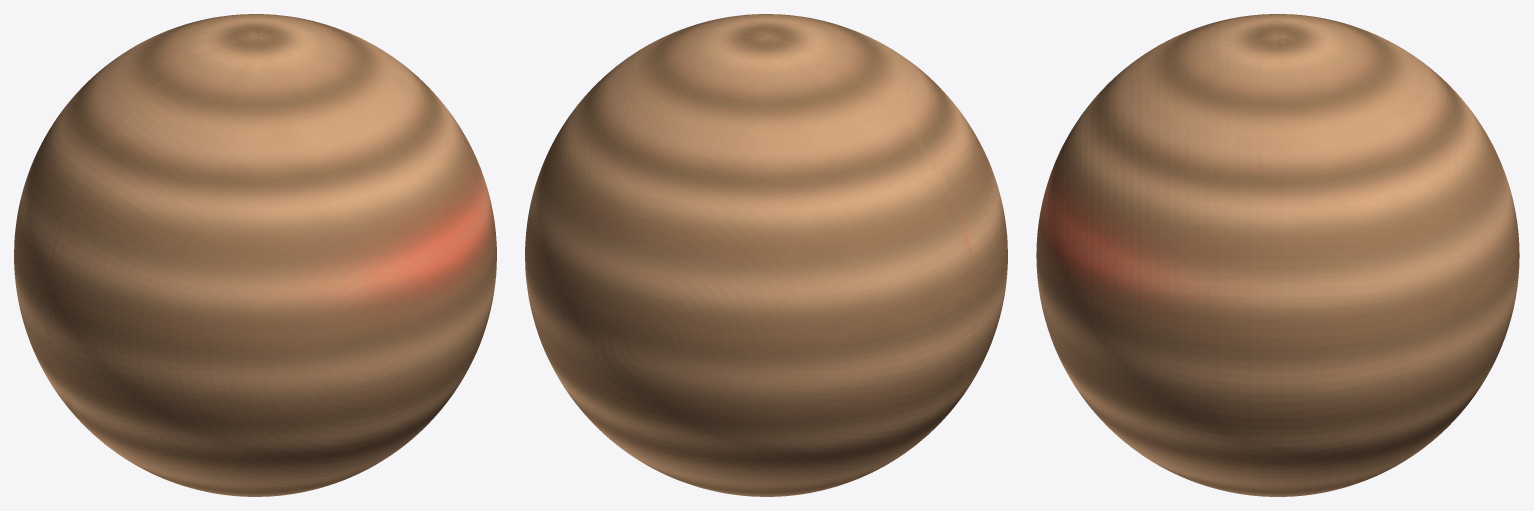
File: jupiter.glb
The picture shows the model from 3 angles, left to right: view 1: azimuth 30°, elevation 25°; view 2: azimuth 150°, elevation 25°; view 3: azimuth 270°, elevation 25°; orthographic projection.
Visible parts, largest first — view 1: world; view 2: world; view 3: world.
Boxes of the visible parts, x1,y1,x2,y2 form: world: [14, 14, 496, 496]; world: [525, 14, 1007, 496]; world: [1036, 14, 1519, 496].
Size of the model in its own units: 2 by 2 by 2.
Materials: 1 (1 with a texture image).
